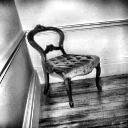chair_success: (17, 18, 116, 109)
